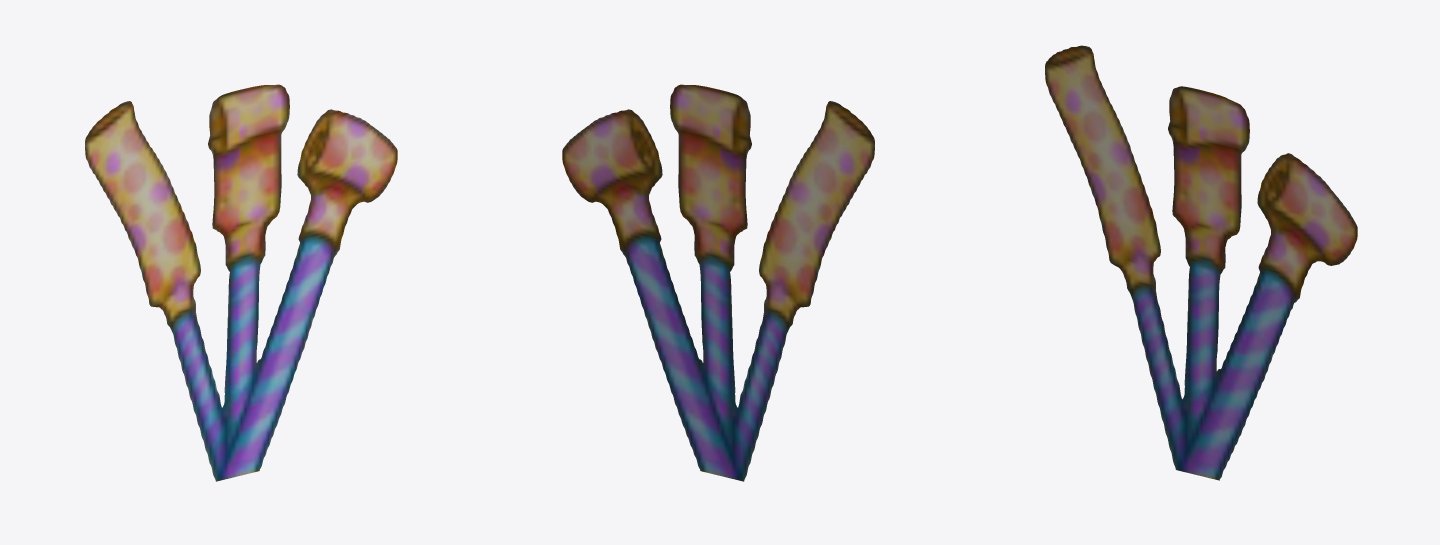
File: noise_makers.glb
3 renders of one model, left to right at view 1: azimuth 30°, elevation 25°; view 2: azimuth 150°, elevation 25°; view 3: azimuth 330°, elevation 25°, orthographic.
Visible parts, largest first — view 1: partyDecoration_NoiseMakers__billboard; view 2: partyDecoration_NoiseMakers__billboard; view 3: partyDecoration_NoiseMakers__billboard.
Part boxes in pixels (<box>): partyDecoration_NoiseMakers__billboard: <box>85,84,397,481</box>; partyDecoration_NoiseMakers__billboard: <box>562,84,874,481</box>; partyDecoration_NoiseMakers__billboard: <box>1045,45,1357,480</box>.
Size of the model in its own units: 7.12 by 6.12 by 0.
1 material, 1 textured.
